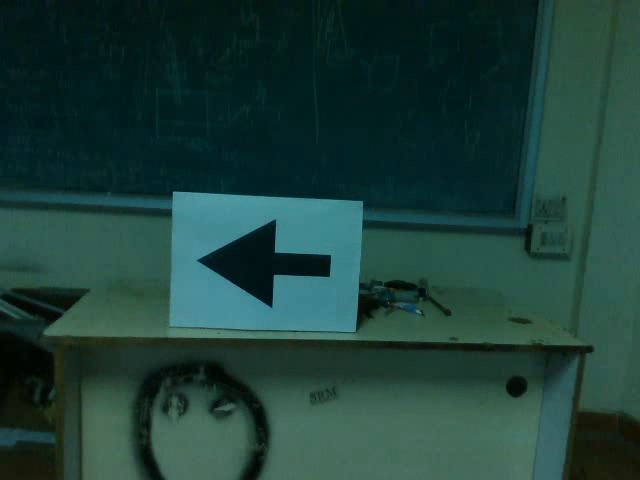Left: (194, 213, 339, 315)
